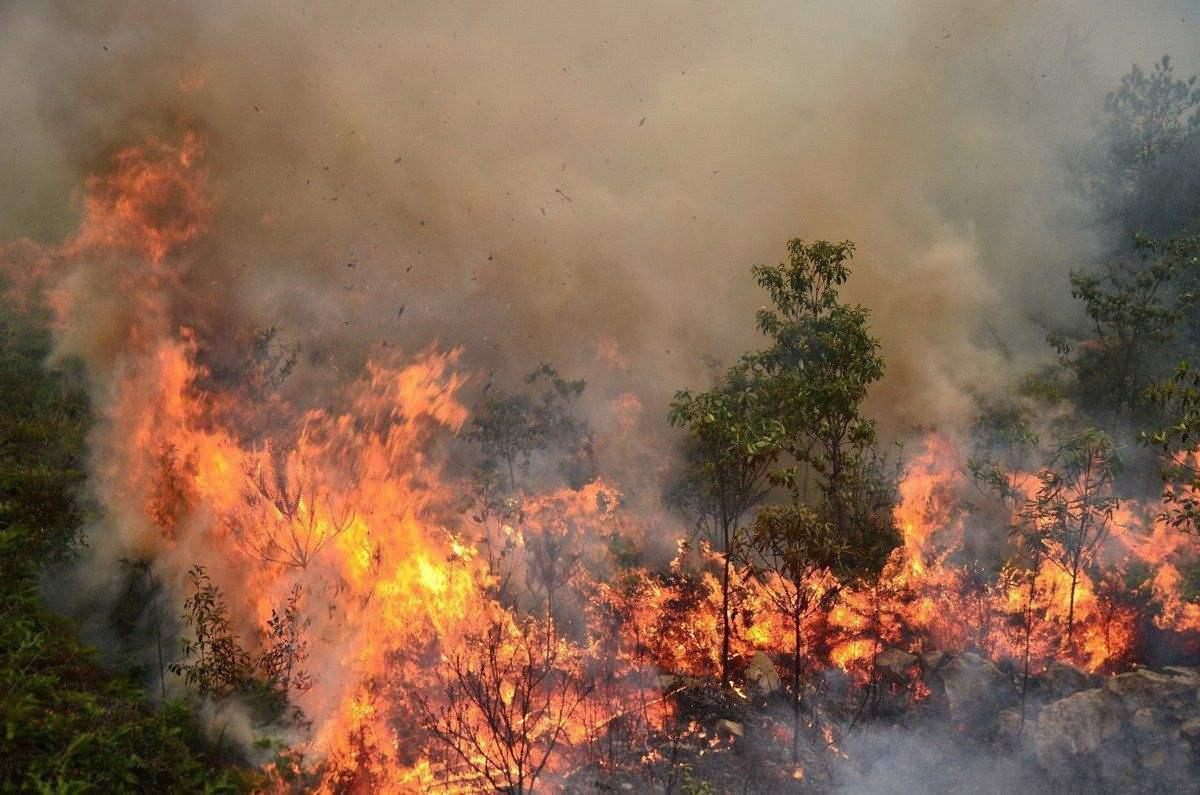fire: (17, 95, 1183, 786)
